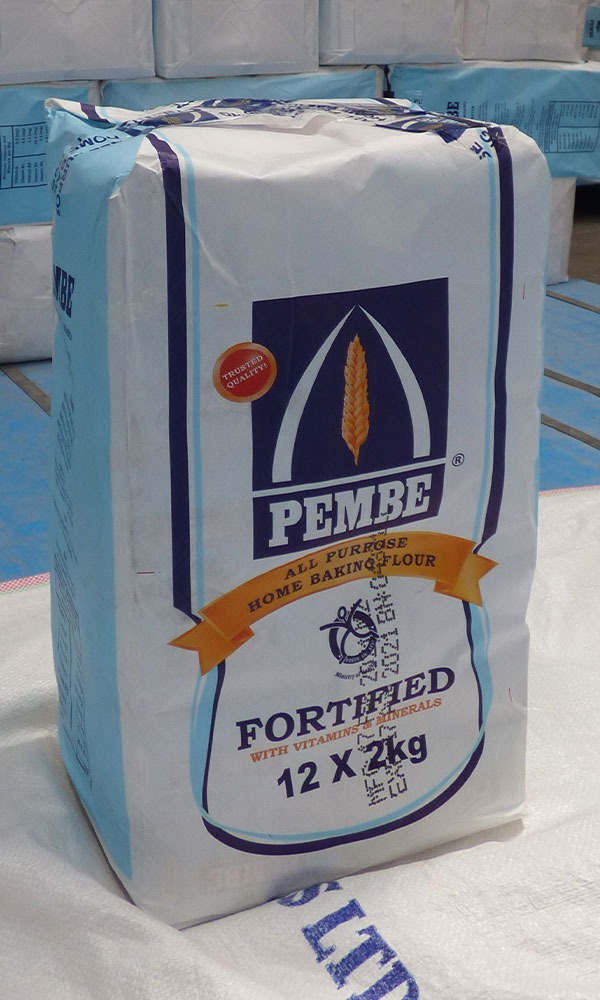wheat_flour_blue_label: (60, 106, 534, 908)
